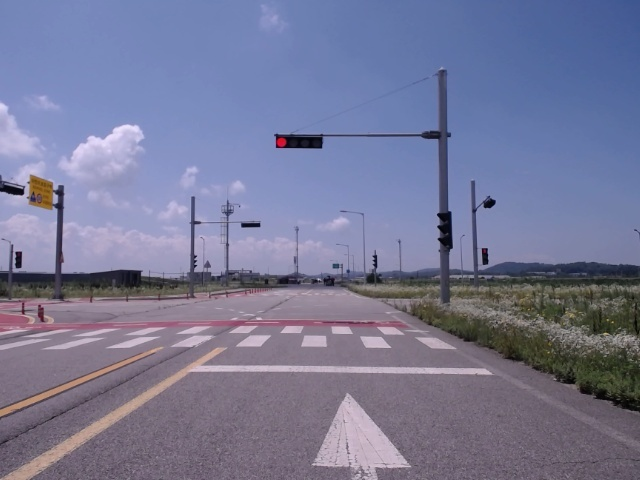red_4: (276, 136, 322, 148)
